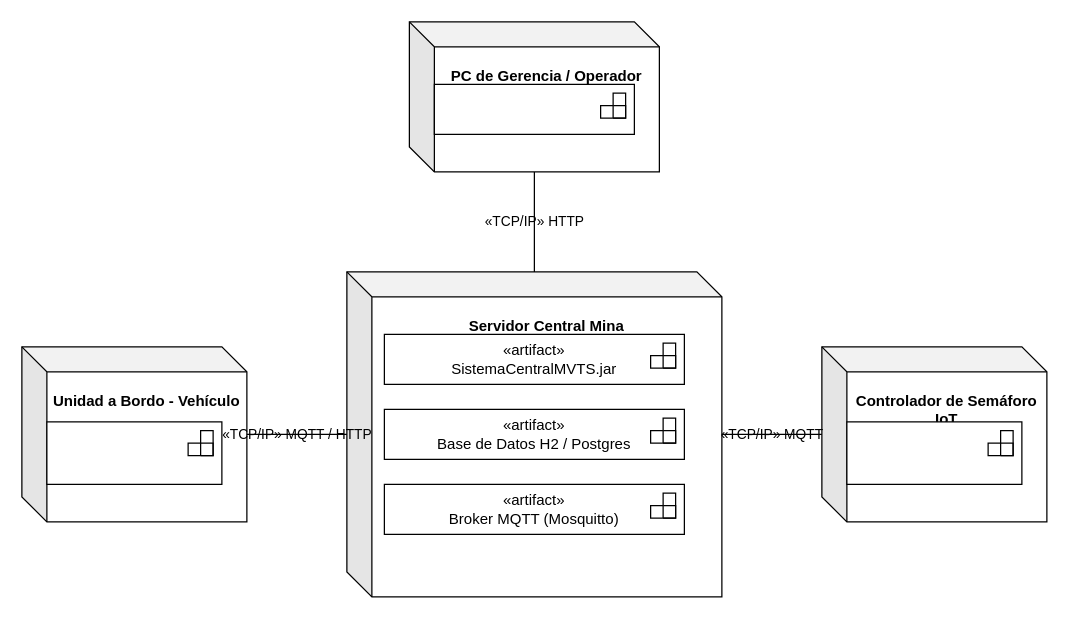
This 1069x619 diagram has some shape labels left out. Here are the shapes that lost their labels. From the top down, the centre of each, then its label:
At (533,108): "«artifact» Navegador Web / Dashboard".
At (134,452): "«artifact» SimuladorVehiculo.jar".
At (934,452): "«artifact» SimuladorSemaforo.jar".
